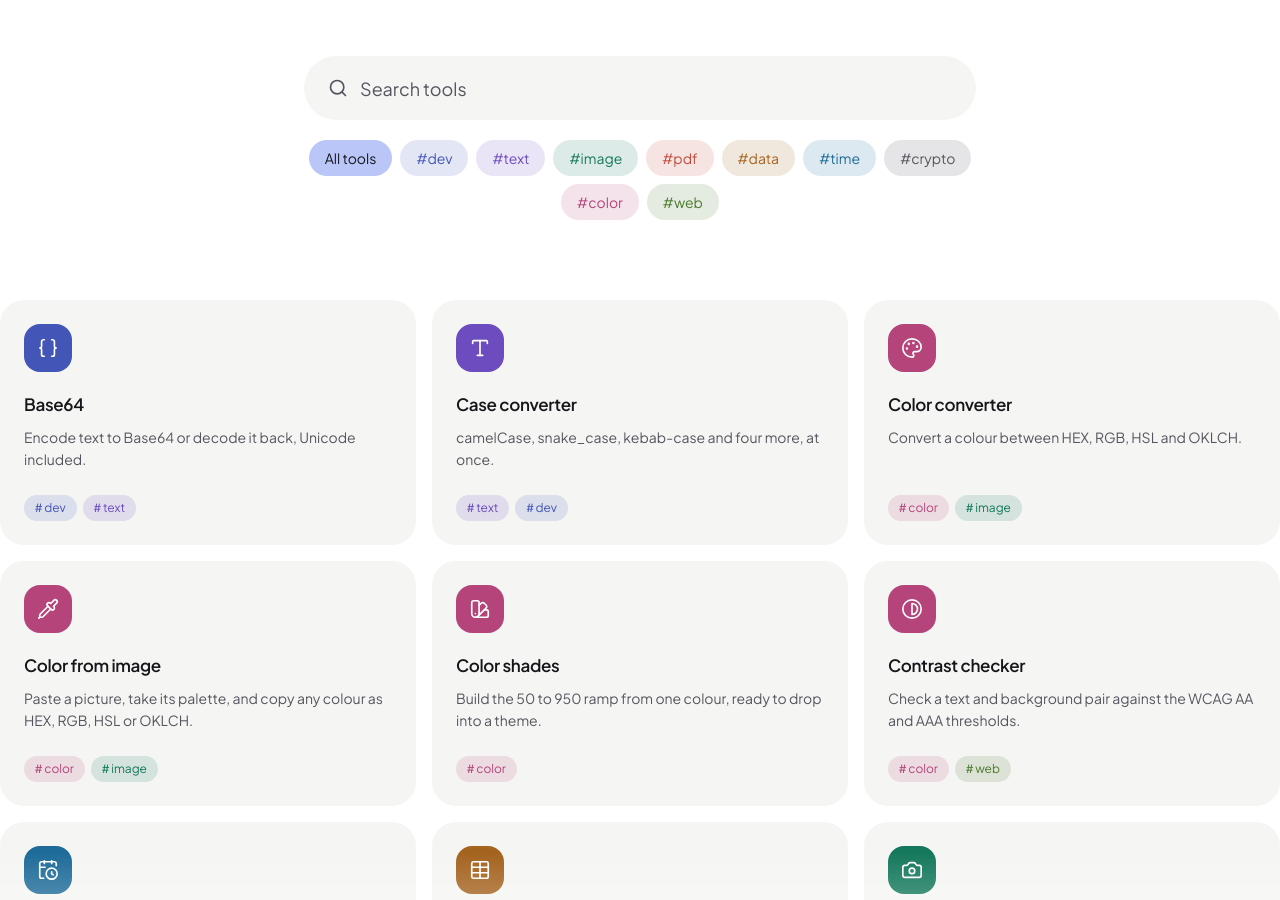
it: <ToolExplorer /> › should close the suggestions again when the field is emptied
The image size is (1280, 900).
Later steps or results of the test are not shown.
Type "base64" into the dropdown labelled "Search tools" at point(640, 88), box x1=304 y1=56 x2=976 y2=120
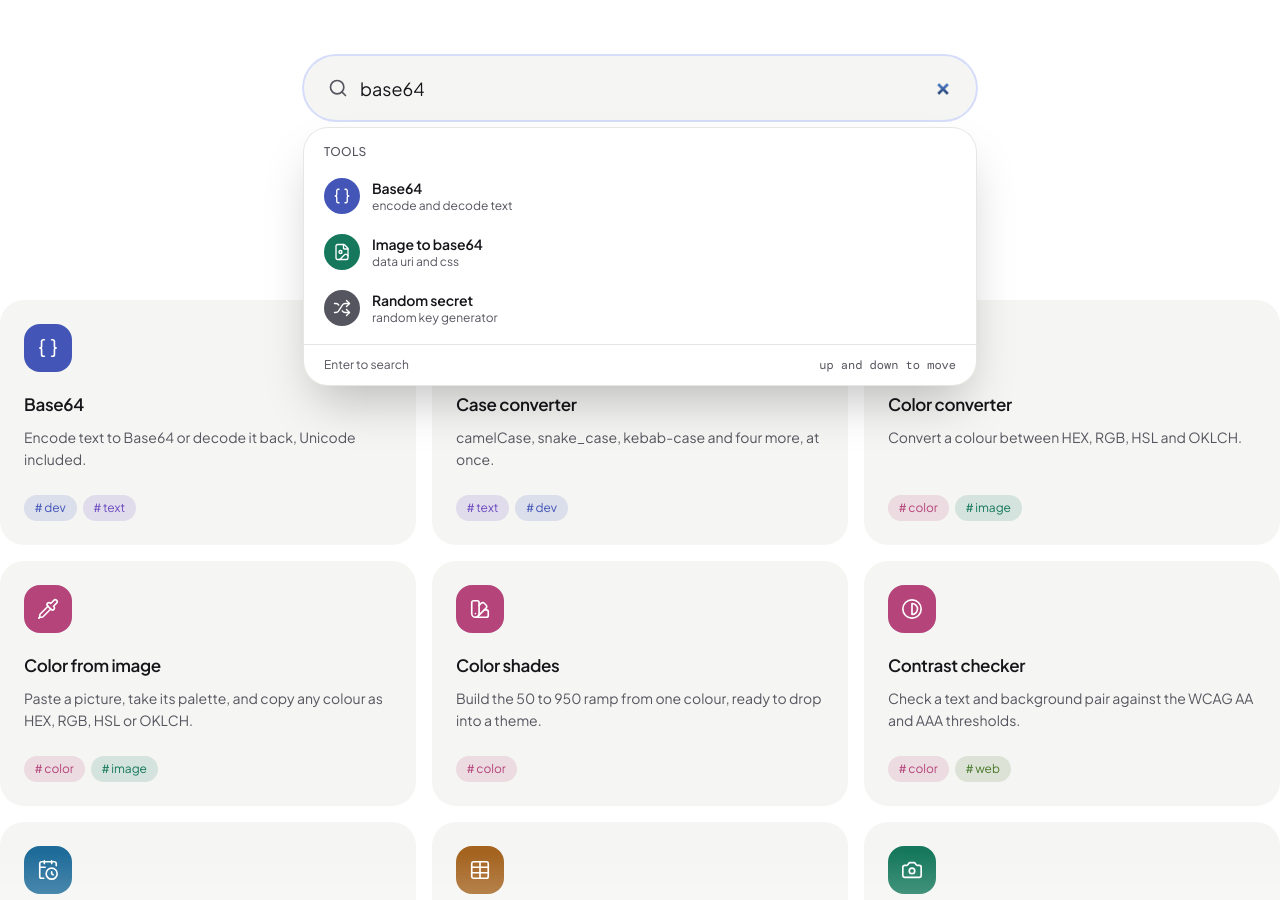
Now the list named "Tool suggestions" is shown, box x1=324 y1=178 x2=513 y2=326
